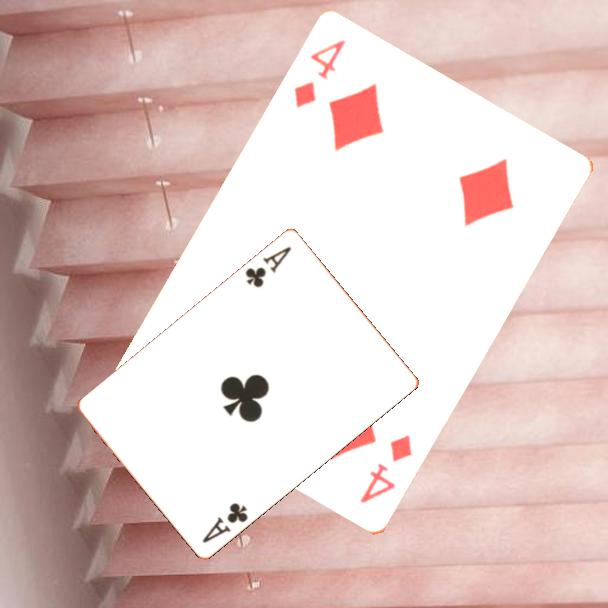c01: (241, 242, 294, 290), (199, 498, 251, 546)
d04: (290, 36, 349, 113), (356, 432, 415, 507)
